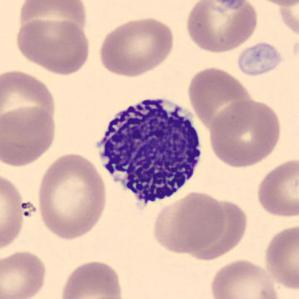Basophil: (88, 89, 209, 217)
Platelets: (212, 0, 247, 9)
RBC: (34, 150, 110, 241), (207, 97, 283, 169), (150, 188, 228, 256), (95, 14, 177, 78), (12, 16, 94, 76), (185, 64, 254, 134), (183, 0, 260, 54), (0, 66, 59, 136), (1, 104, 59, 169), (190, 201, 250, 262), (14, 1, 91, 48), (208, 257, 282, 299), (58, 258, 126, 299), (254, 156, 298, 219), (0, 247, 49, 299), (262, 222, 298, 291), (0, 171, 27, 255), (235, 40, 285, 78), (276, 1, 298, 39), (68, 293, 136, 299), (248, 0, 299, 7)
